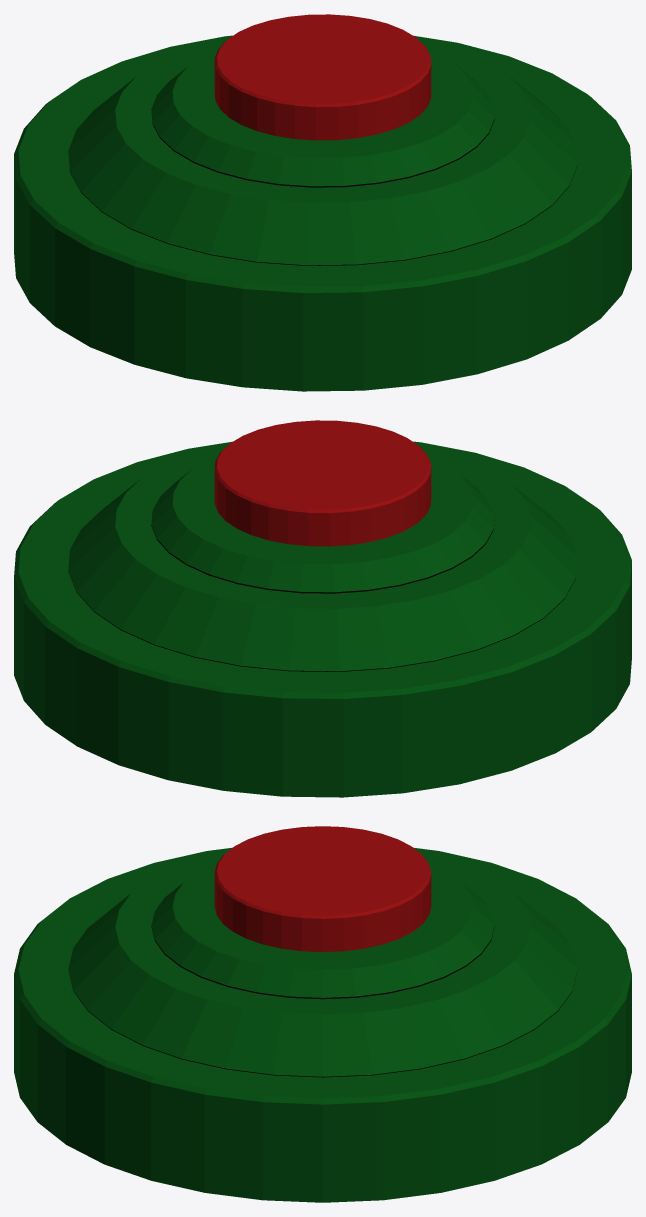
File: mina.fbx
3 views of the same model, one above another, from view 1: azimuth 30°, elevation 25°; view 2: azimuth 150°, elevation 25°; view 3: azimuth 270°, elevation 25° (orthographic).
Parts seen in each view (by area): view 1: Cylinder; view 2: Cylinder; view 3: Cylinder.
Part boxes in pixels (x1,y1,x2,y2): Cylinder: [14, 14, 631, 391]; Cylinder: [14, 420, 631, 797]; Cylinder: [14, 826, 631, 1202].
Bounding box in the file's own units: 200 × 71.88 × 200.
